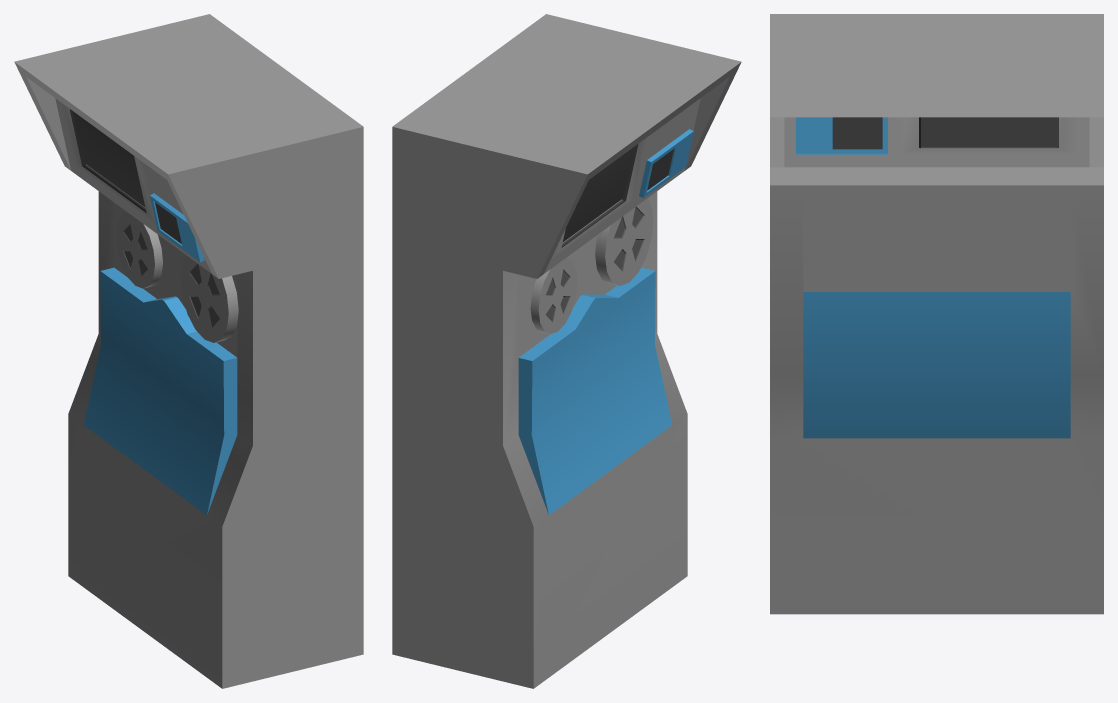
Rendered from A_StandingConsole.fbx.
3 renders of one model, left to right at view 1: azimuth 30°, elevation 25°; view 2: azimuth 150°, elevation 25°; view 3: azimuth 270°, elevation 25°, orthographic. The views are drawn at different scales.
Visible parts, largest first — view 1: A_StandingConsole, ReelConsole, ReelConsole1; view 2: A_StandingConsole, ReelConsole, ReelConsole1; view 3: A_StandingConsole.
Boxes of the visible parts, x1,y1,x2,y2 form: A_StandingConsole: (14, 14, 363, 688); ReelConsole: (180, 255, 238, 342); ReelConsole1: (116, 212, 162, 288); A_StandingConsole: (392, 14, 741, 688); ReelConsole: (595, 198, 653, 285); ReelConsole1: (530, 258, 577, 334); A_StandingConsole: (770, 14, 1103, 614).
Bounding box in the file's own units: 4.31 × 11.11 × 5.88.
Materials: 5 (5 with a texture image).
